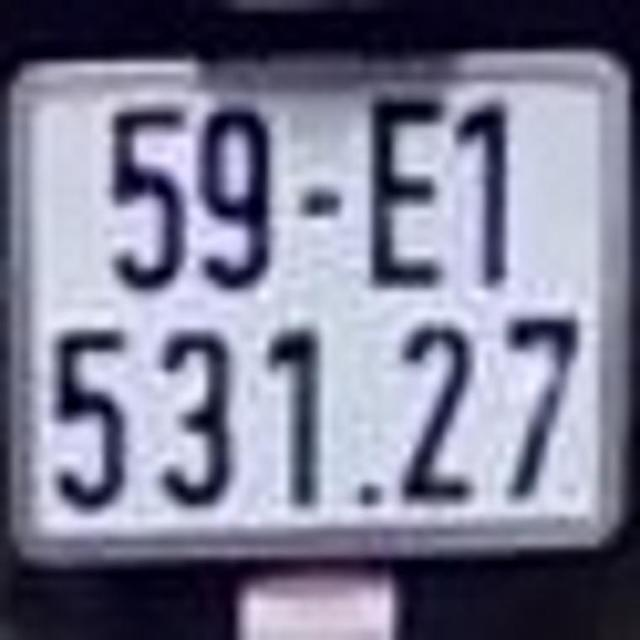1: (454, 84, 528, 287), (263, 316, 328, 511)
2: (395, 309, 479, 504)
3: (158, 321, 234, 510)
5: (106, 99, 190, 292), (49, 322, 130, 512)
7: (499, 296, 586, 503)
9: (196, 96, 276, 294)
E: (362, 82, 452, 291)
